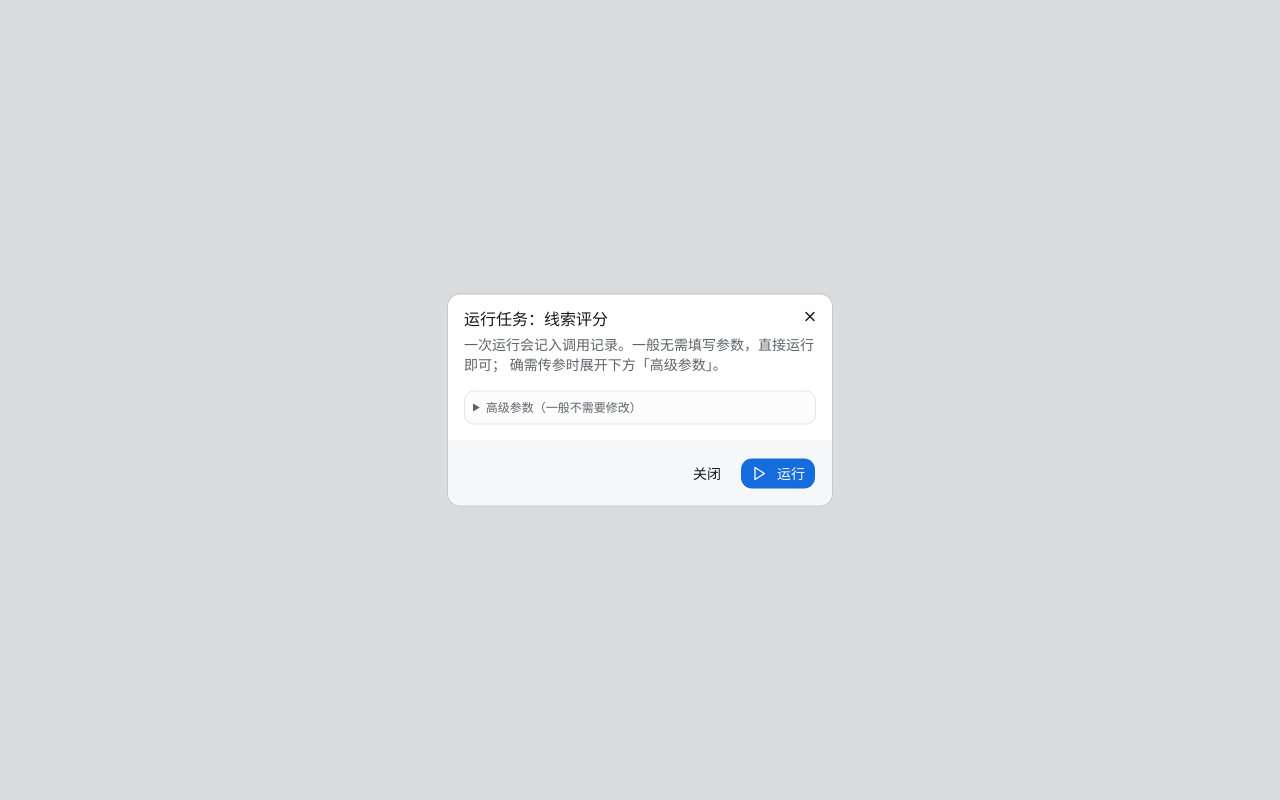
it: RunTaskDialog · 参数表单与结果展示（C36 #13） › 409 ⇒ 显示「冲突」+ 码；404 UNKNOWN_TASK 同理
This screenshot has width=1280, height=800.
Click the button "运行" at (778, 474), box left=740, top=458, right=816, bottom=490
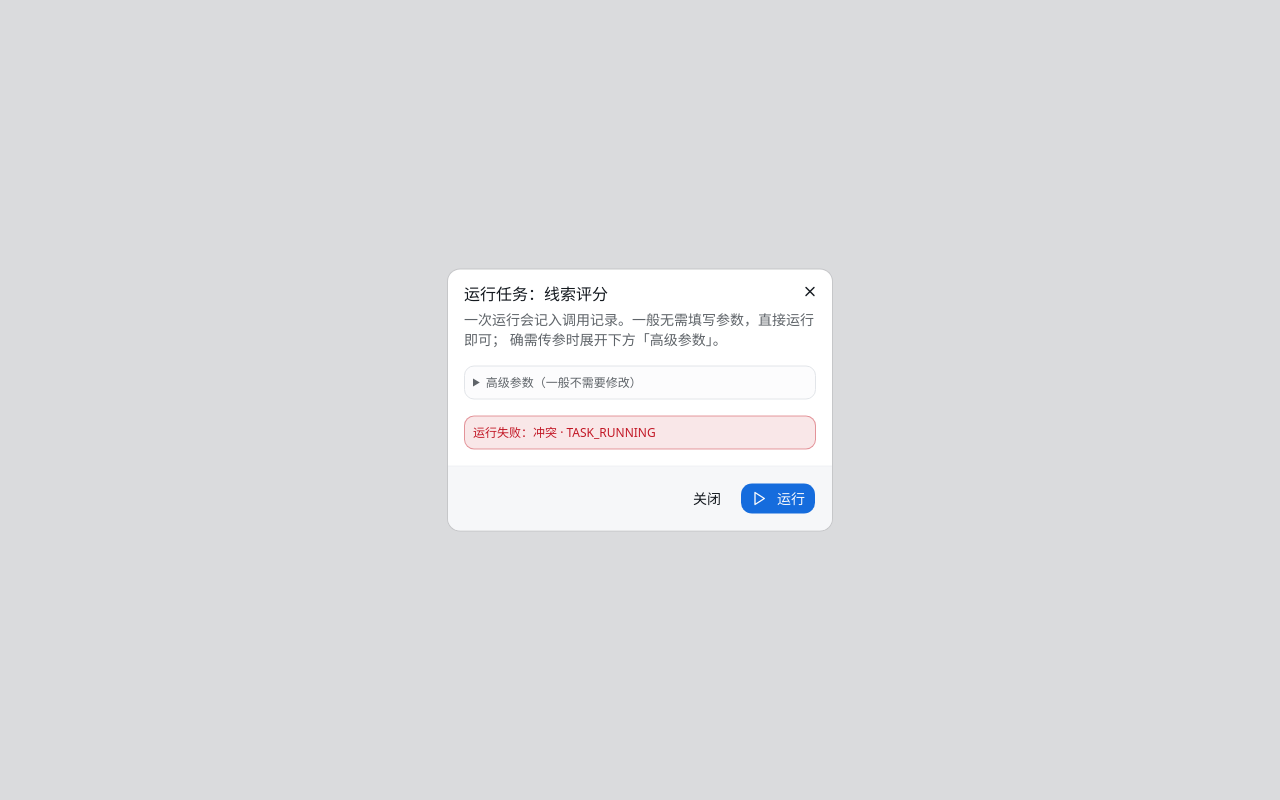
Result: the text "冲突" is shown at left=533, top=424, right=656, bottom=440
Result: the text "TASK_RUNNING" is shown at left=533, top=424, right=656, bottom=440
Click the button "运行" at (778, 498), box left=740, top=482, right=816, bottom=514
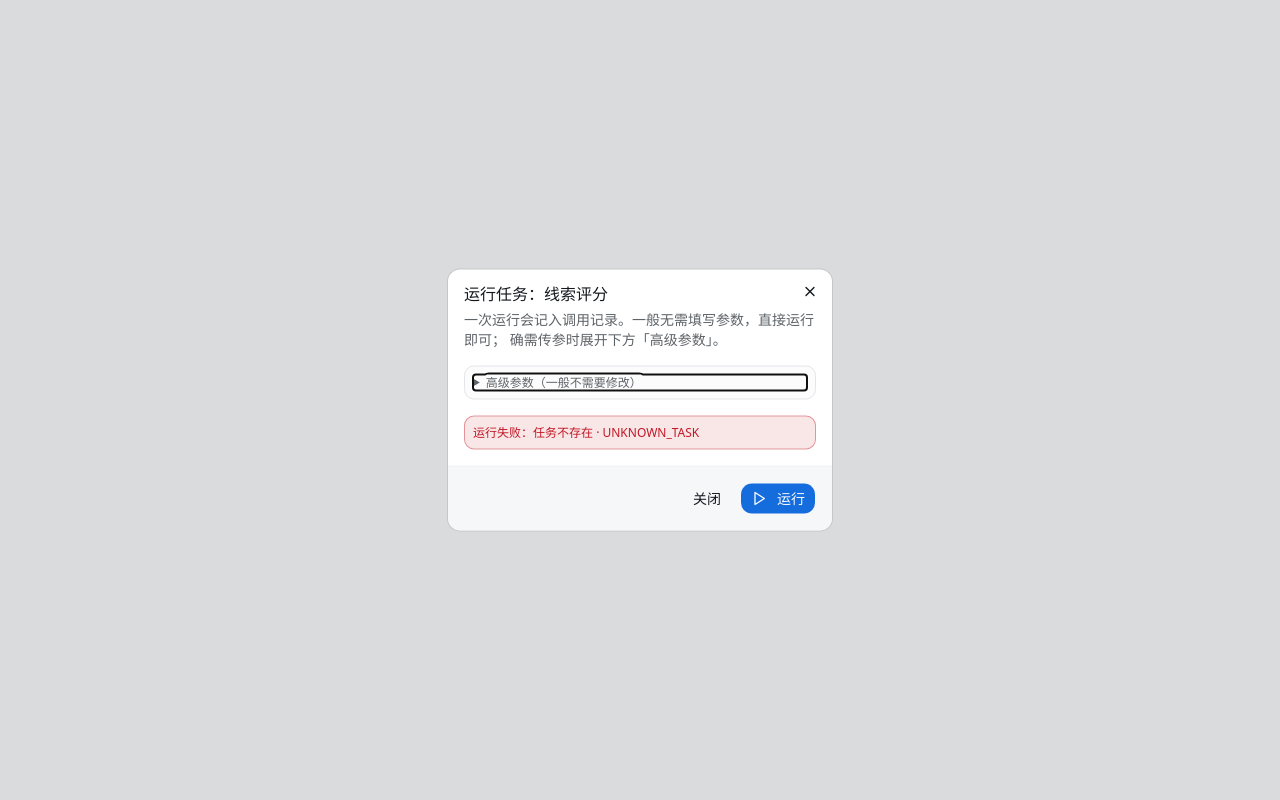
Result: the text "任务不存在" is shown at left=533, top=424, right=699, bottom=440
Result: the text "UNKNOWN_TASK" is shown at left=533, top=424, right=699, bottom=440
